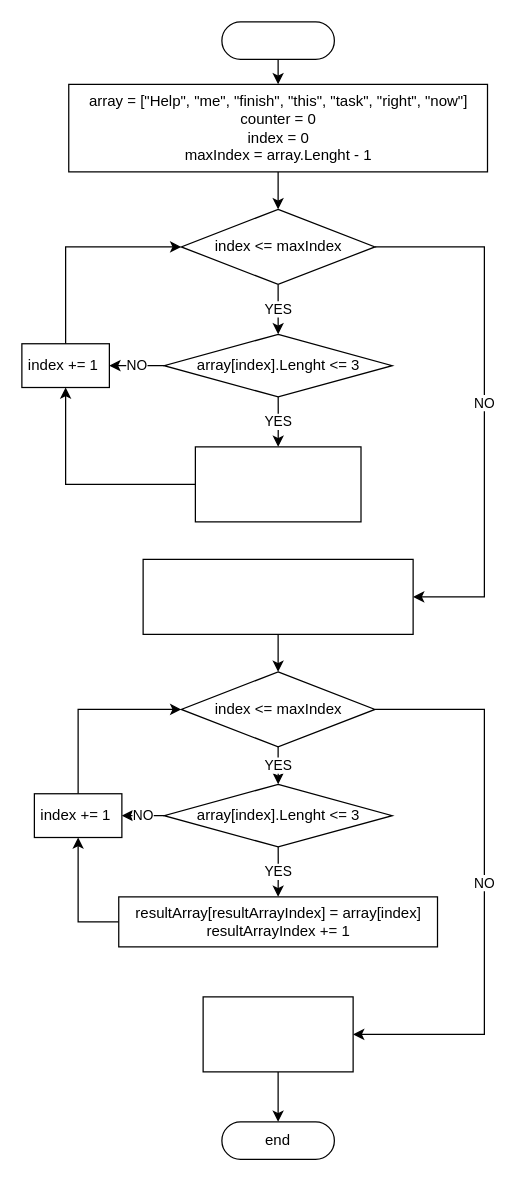
Image size: 516x1181. Some labels were removed from this diagram. The centre of each missing label's shape, as x and y in pixels:
begin: the point at 277,40
counter += 1: the point at 277,484
print(resultArray): the point at 277,1034
string resultArray = new string[counter] index = 0 resultArrayIndex = 0: the point at 277,596
